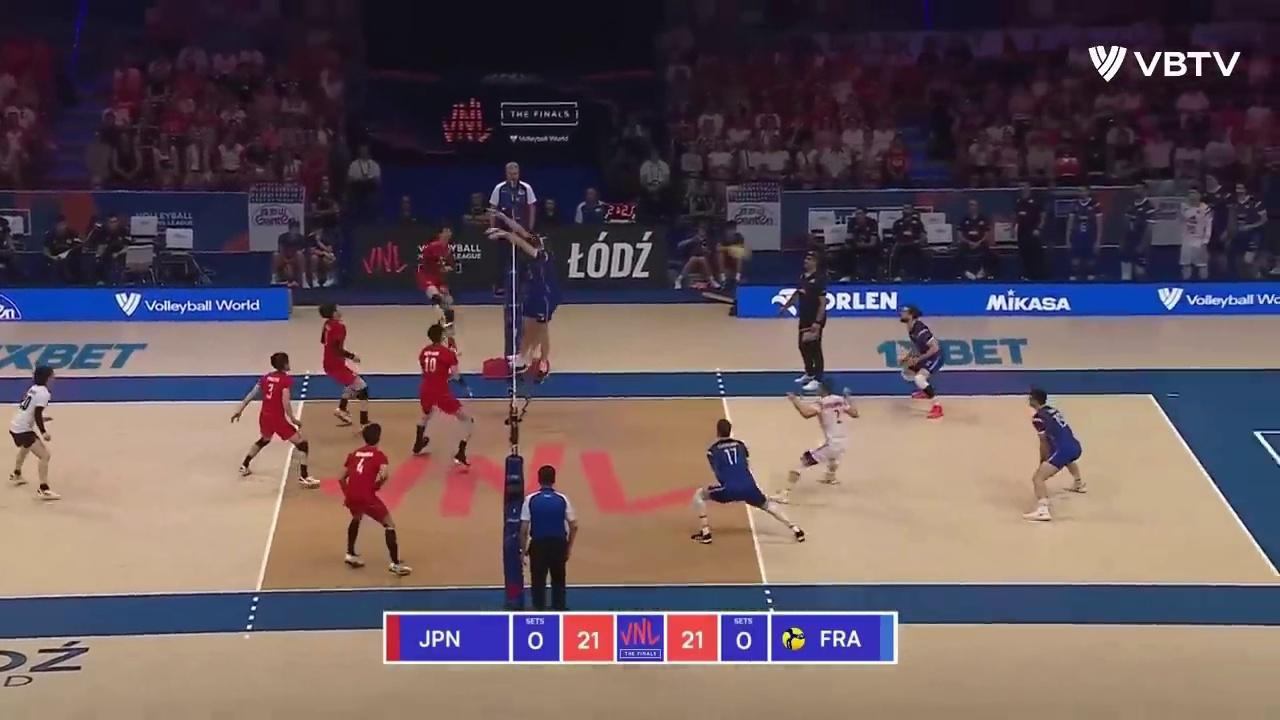ball: (728, 246, 750, 260)
